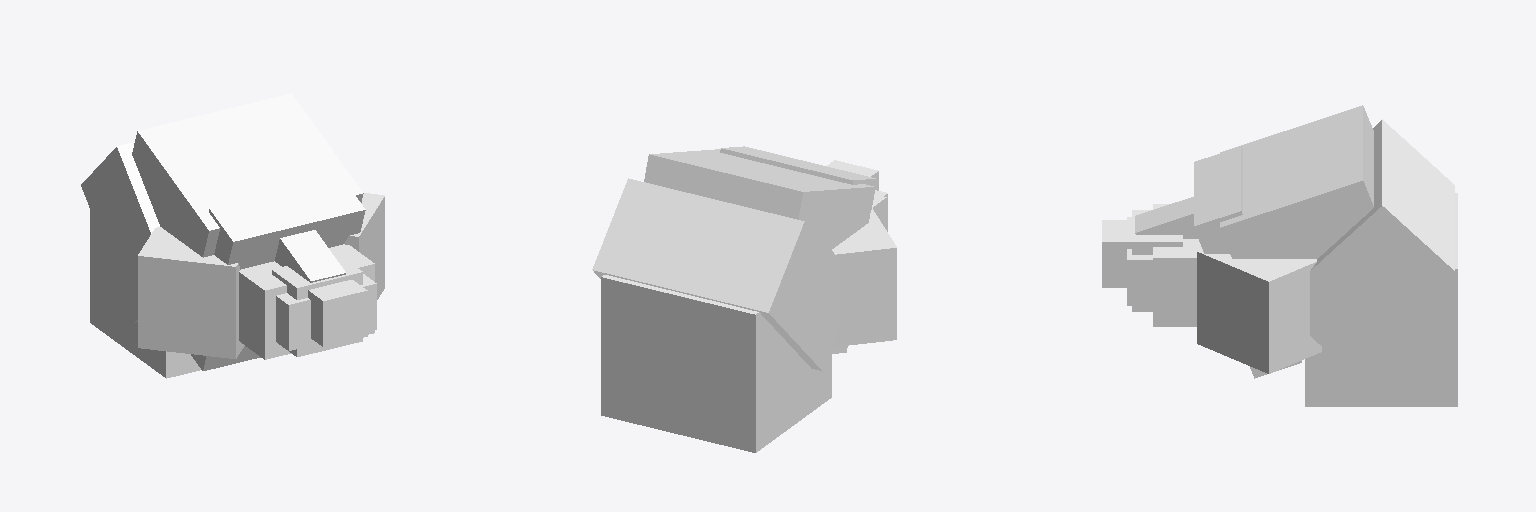
File: meng_head.obj
3 renders of one model, left to right at view 1: azimuth 30°, elevation 25°; view 2: azimuth 150°, elevation 25°; view 3: azimuth 270°, elevation 25°, orthographic.
Visible parts, largest first — view 1: Element #10, Element #11, Element #8, Element #3, Element #2, Element #6, Element #4, Element #5, Element #1, Element #9, Element #7; view 2: Element #2, Element #3, Element #10, Element #11, Element #8; view 3: Element #3, Element #10, Element #2, Element #9, Element #8, Element #6, Element #4, Element #1, Element #5, Element #7.
Part boxes in pixels (bbox=[...]): Element #10: bbox=[132, 93, 363, 257]; Element #11: bbox=[138, 227, 244, 358]; Element #8: bbox=[191, 176, 365, 370]; Element #3: bbox=[81, 142, 159, 322]; Element #2: bbox=[90, 210, 200, 378]; Element #6: bbox=[239, 244, 374, 359]; Element #4: bbox=[308, 280, 367, 346]; Element #5: bbox=[276, 274, 376, 350]; Element #1: bbox=[275, 230, 345, 282]; Element #9: bbox=[344, 193, 384, 299]; Element #7: bbox=[272, 253, 362, 356]; Element #2: bbox=[601, 275, 831, 452]; Element #3: bbox=[592, 178, 840, 370]; Element #10: bbox=[644, 149, 874, 249]; Element #11: bbox=[832, 208, 896, 346]; Element #8: bbox=[720, 146, 876, 353]; Element #3: bbox=[1310, 119, 1454, 368]; Element #10: bbox=[1220, 105, 1373, 258]; Element #2: bbox=[1305, 193, 1457, 406]; Element #9: bbox=[1197, 249, 1321, 373]; Element #8: bbox=[1194, 147, 1301, 378]; Element #6: bbox=[1153, 204, 1201, 326]; Element #4: bbox=[1102, 220, 1131, 287]; Element #1: bbox=[1135, 197, 1197, 238]; Element #5: bbox=[1127, 217, 1152, 305]; Element #7: bbox=[1132, 210, 1182, 311].
Size of the model in its own units: 5.61 by 4.91 by 7.